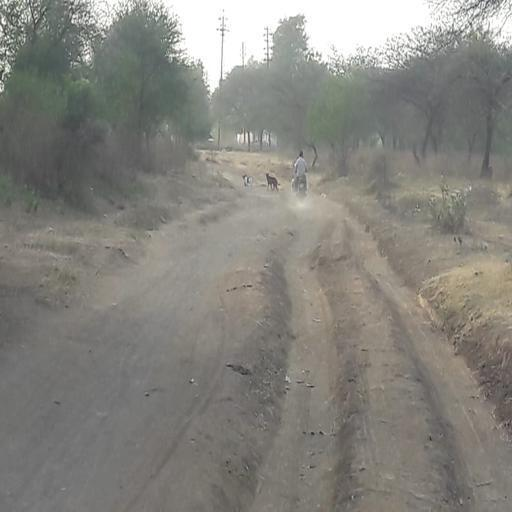vehicle_track: (0, 204, 263, 512), (350, 216, 512, 512), (249, 212, 340, 512)
